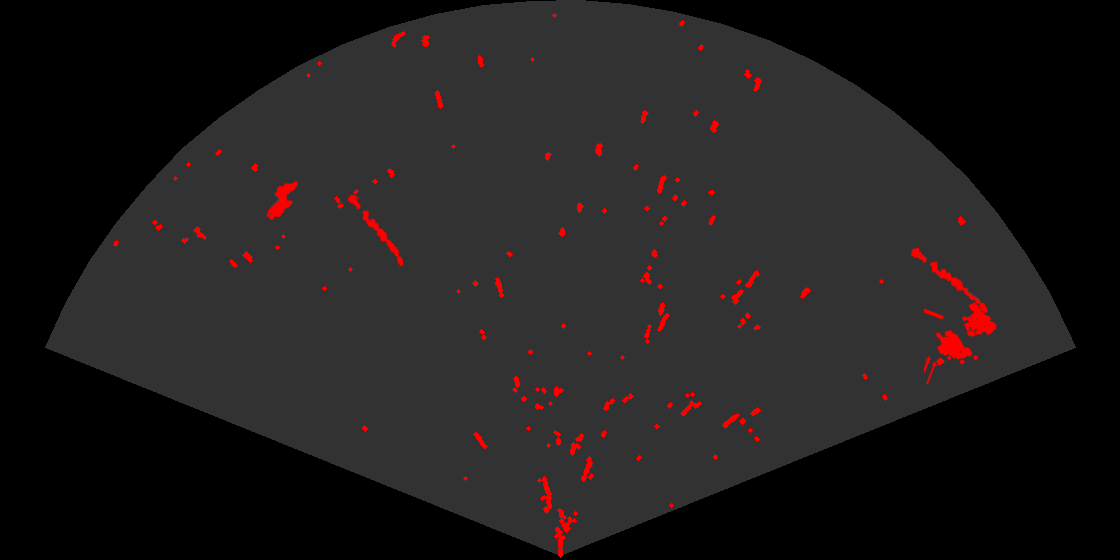AUV: (265, 180, 300, 221)
cage: (924, 300, 998, 384)
chain: (340, 182, 405, 268), (909, 246, 989, 314)
